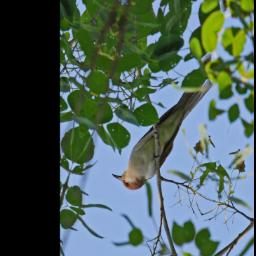Cuckoo: (109, 28, 224, 213)
